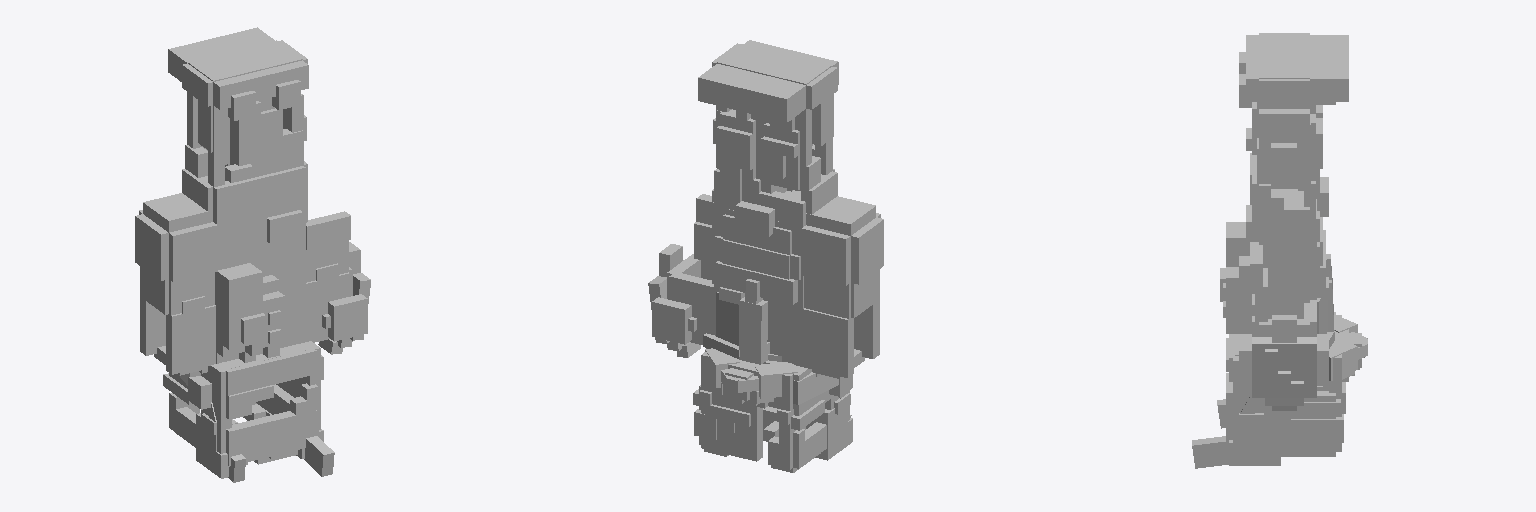
File: x02_full_broken.obj
3 renders of one model, left to right at view 1: azimuth 30°, elevation 25°; view 2: azimuth 150°, elevation 25°; view 3: azimuth 270°, elevation 25°, orthographic.
Visible parts, largest first — view 1: Head, RightArm, Body, RightLeg, LeftArm, RightBoot, LeftLeg, LeftBoot; view 2: Head, Body, RightArm, RightLeg, LeftArm, RightBoot, LeftLeg, LeftBoot; view 3: Head, Body, LeftArm, LeftLeg, LeftBoot, RightBoot.
Boxes of the visible parts, x1,y1,x2,y2 form: Head: [163, 341, 334, 482]; RightArm: [135, 193, 217, 375]; Body: [215, 199, 307, 363]; RightLeg: [182, 92, 260, 223]; LeftArm: [306, 211, 370, 354]; RightBoot: [168, 38, 263, 120]; LeftLeg: [259, 94, 307, 212]; LeftBoot: [213, 27, 308, 109]; Head: [693, 348, 852, 472]; Body: [703, 201, 803, 366]; RightArm: [802, 196, 883, 378]; RightLeg: [759, 94, 837, 226]; LeftArm: [648, 194, 713, 357]; RightBoot: [743, 51, 838, 122]; LeftLeg: [712, 105, 786, 210]; LeftBoot: [698, 40, 792, 111]; Head: [1192, 312, 1367, 468]; Body: [1220, 177, 1334, 348]; LeftArm: [1239, 242, 1328, 410]; LeftLeg: [1252, 102, 1322, 220]; LeftBoot: [1239, 56, 1348, 107]; RightBoot: [1239, 33, 1348, 73].
Size of the model in its own units: 18.98 by 33.62 by 13.69.